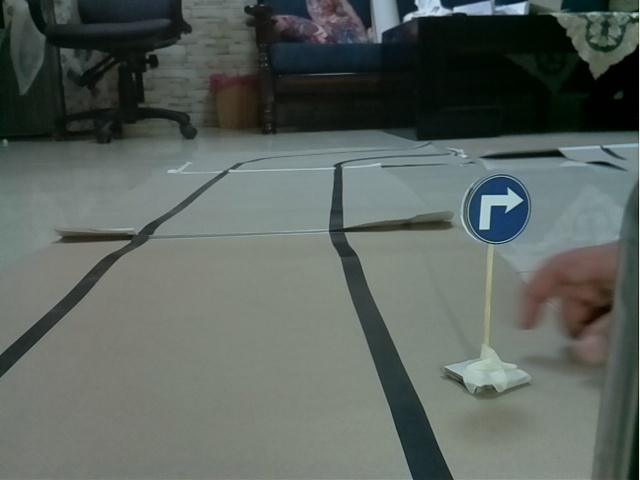turn: (461, 170, 533, 247)
